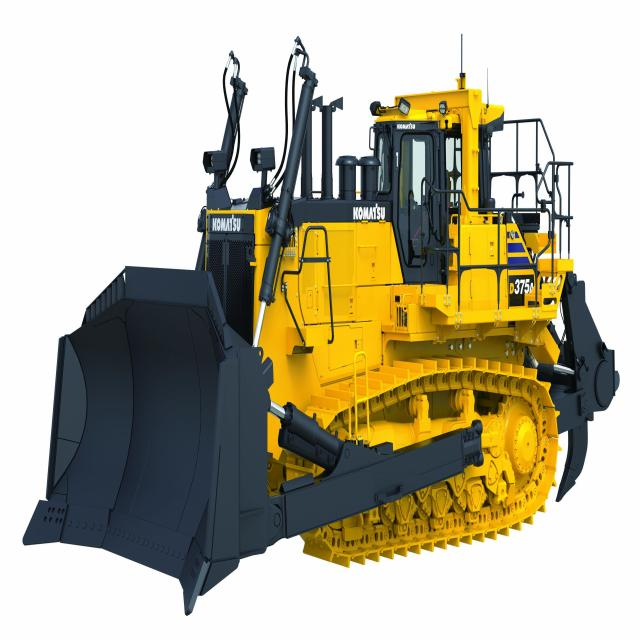Bulldozer: (26, 39, 627, 620)
